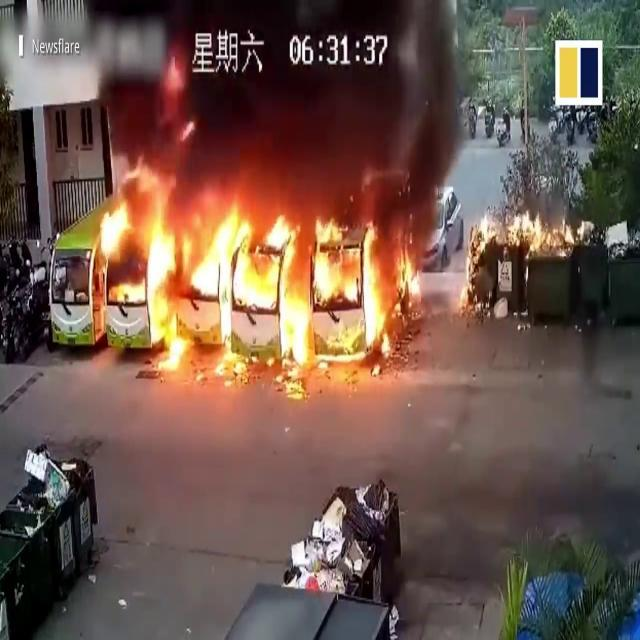Fire: (94, 201, 408, 373), (475, 201, 577, 256)
Smoke: (84, 0, 472, 208)
